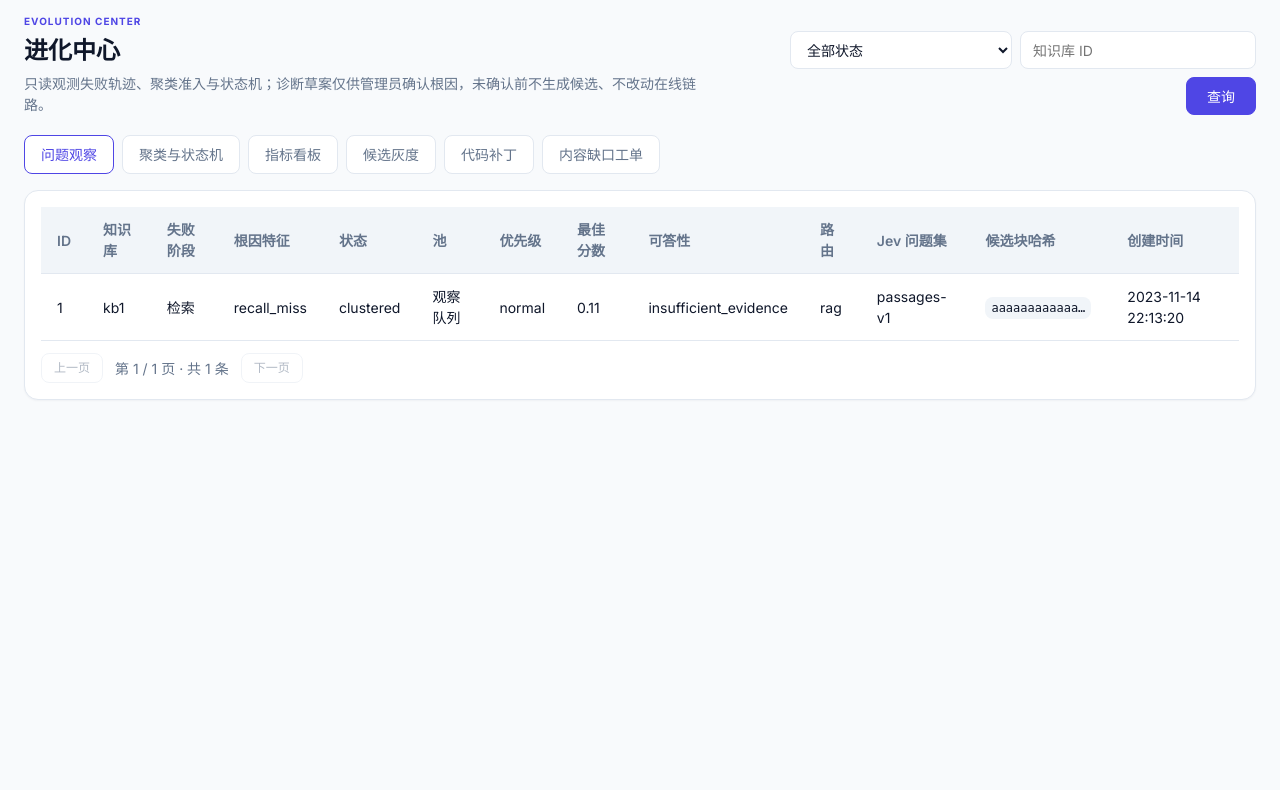
Scenario: EvolutionCenterView member-draft review › renders the observation metrics behind the metrics tab
Click the button with test id "tab-metrics".
click(293, 154)  # box [248, 135, 338, 174]
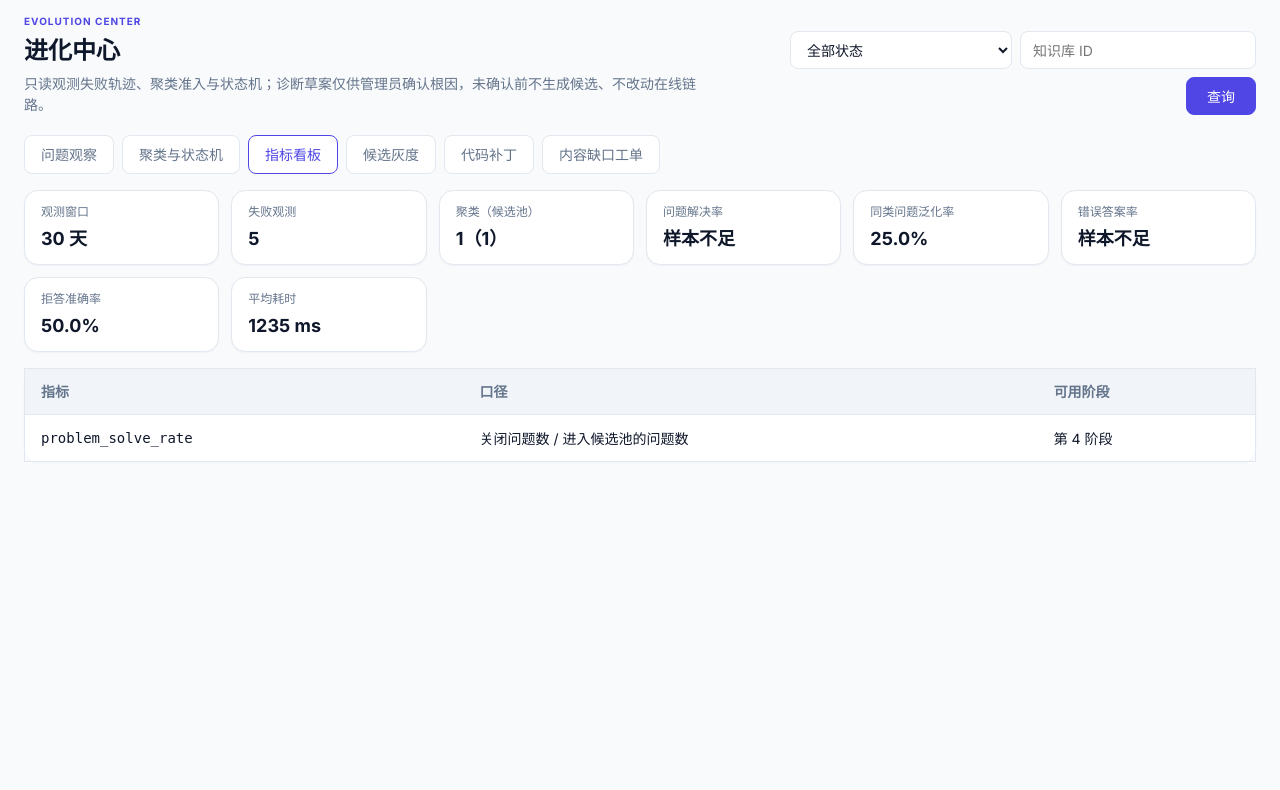
Check: the text with test id "metrics-window" reads "30 天", box [41, 228, 87, 249]
Check: the text with test id "metrics-observations" reads "5", box [248, 228, 260, 249]
Check: the text with test id "metrics-clusters" reads "1（1）", box [456, 228, 507, 249]
// The endpoint inventory is honest about the single write surface.
Click the button with test id "tab-clusters".
click(181, 154)  # box [122, 135, 240, 174]
(page scrolled)
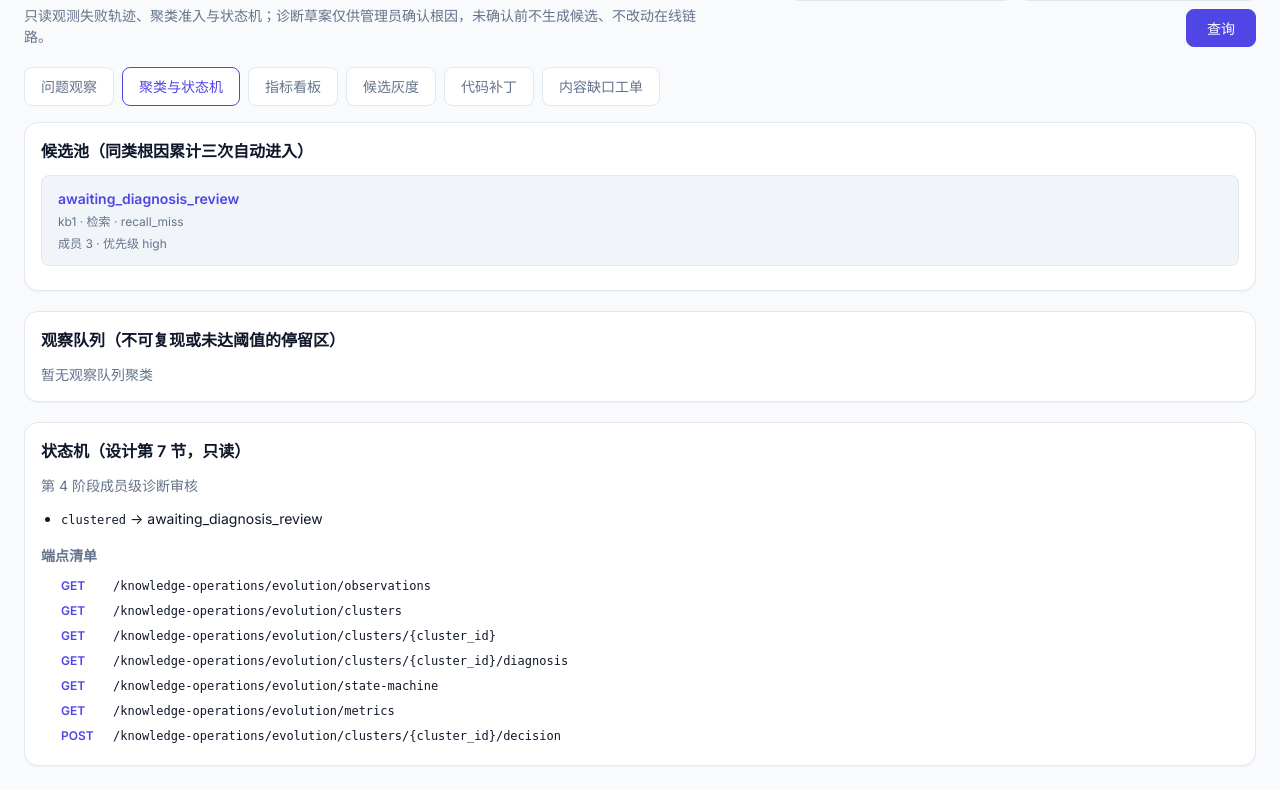
Check: the list with test id "endpoint-inventory" shows "POST", box [61, 728, 94, 743]
